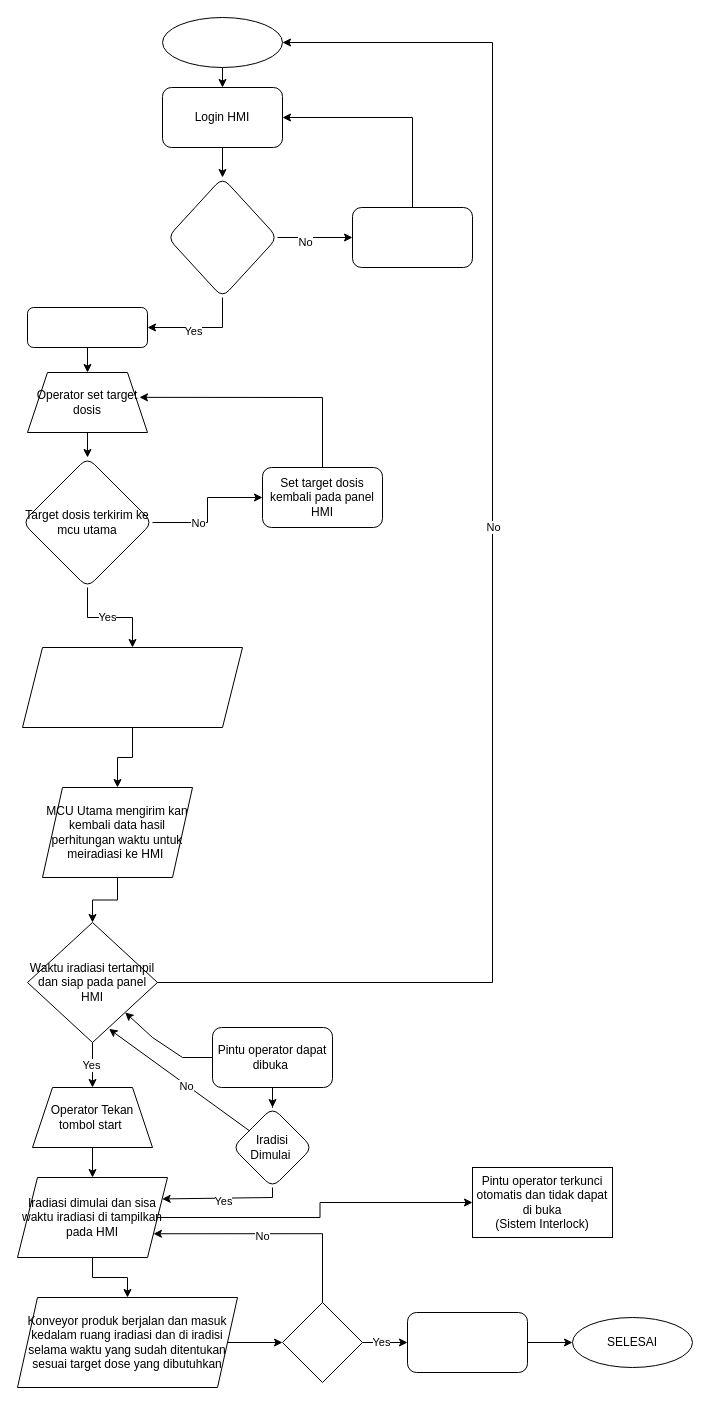
Some shapes in this 710 by 1405 pixel diagram are drawn without their labels. The centre of each missing label's shape, as x and y in pixels:
HMI Siap: the point at 87,327
Iradisi selesai: the point at 322,1342
konveyor produk keluar dan berhenti di tempat unloading: the point at 467,1342
Login HMI Berhasil: the point at 222,237
Login Kembali dengan akun yang benar: the point at 412,237
MCU menghitung waktu yang dibutuhkan untuk melakukan iradiasi: the point at 132,687
START: the point at 222,42
